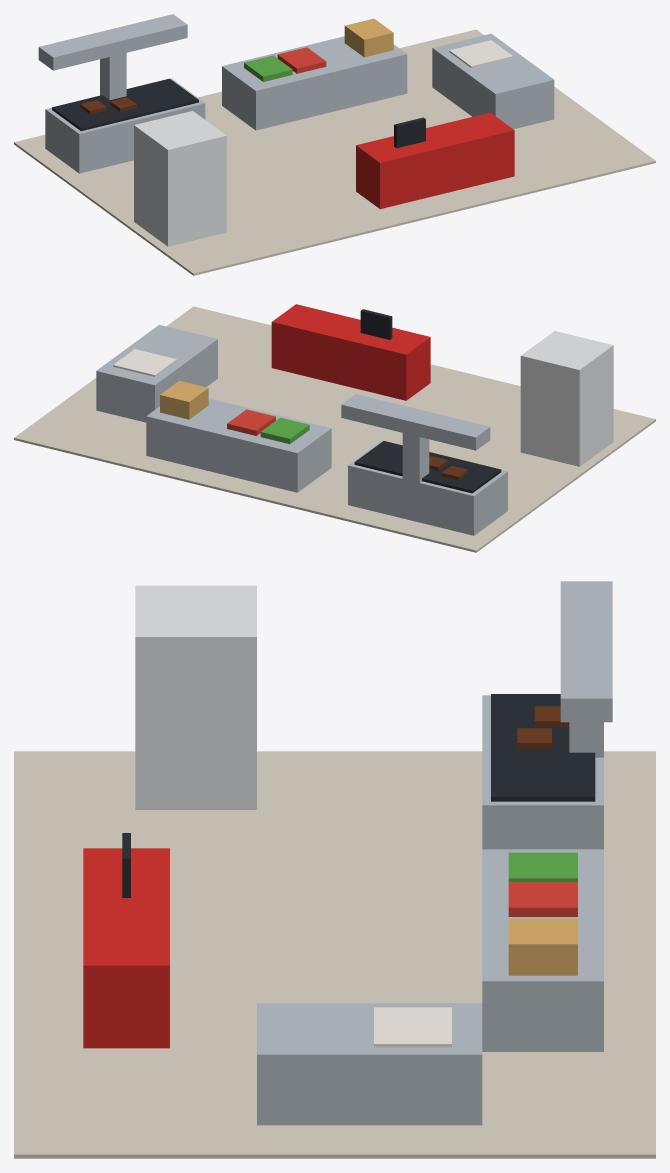
The model's file is kitchen.glb.
3 views of the same model, one above another, from view 1: azimuth 30°, elevation 25°; view 2: azimuth 150°, elevation 25°; view 3: azimuth 270°, elevation 25° (orthographic). The views are drawn at different scales.
Visible parts, largest first — view 1: object 16, object 15, register, prep line, wrap station, Cube.003, hood, griddle, bun rack, flue, paper, lettuce bin (+2 smaller); view 2: object 16, object 15, register, prep line, Cube.003, wrap station, hood, griddle, bun rack, flue, paper, lettuce bin (+2 smaller); view 3: object 16, object 15, wrap station, register, prep line, griddle, hood, Cube.003, bun rack, paper, tomato bin, lettuce bin (+1 smaller).
Boxes of the visible parts, x1,y1,x2,y2 form: object 16: (14,29,655,275); object 15: (134,111,226,246); register: (356,112,514,209); prep line: (222,36,407,130); wrap station: (432,33,554,129); Cube.003: (45,78,205,173); hood: (38,14,187,70); griddle: (52,78,198,131); bun rack: (344,18,393,57); flue: (100,53,126,100); paper: (449,40,513,67); lettuce bin: (244,55,292,81); object 16: (14,306,655,552); object 15: (520,331,613,466); register: (271,304,430,400); prep line: (146,398,331,492); Cube.003: (348,440,507,535); wrap station: (96,324,217,422); hood: (341,394,490,450); griddle: (354,441,501,493); bun rack: (160,380,208,419); flue: (402,433,429,482); paper: (113,349,176,376); lettuce bin: (260,417,309,443); object 16: (14,751,655,1158); object 15: (135,585,256,809); wrap station: (257,1003,482,1125); register: (83,848,169,1048); prep line: (482,849,603,1051); griddle: (491,694,595,801); hood: (560,581,612,722); Cube.003: (482,695,603,849); bun rack: (508,918,577,975); paper: (374,1007,451,1047); tomato bin: (508,882,577,916); lettuce bin: (508,852,577,881).
Bounding box in the file's own units: 11 × 2.35 × 7.4.
